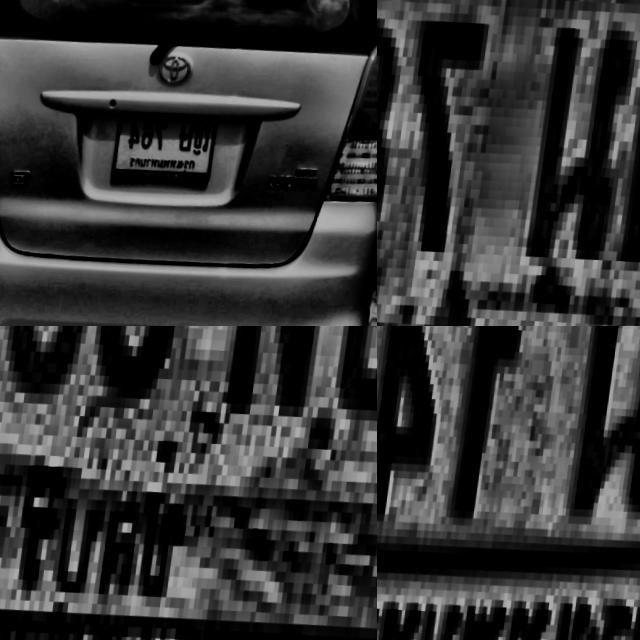license-plate: (0, 326, 377, 640), (377, 0, 640, 326), (377, 326, 640, 640), (112, 105, 223, 192)
